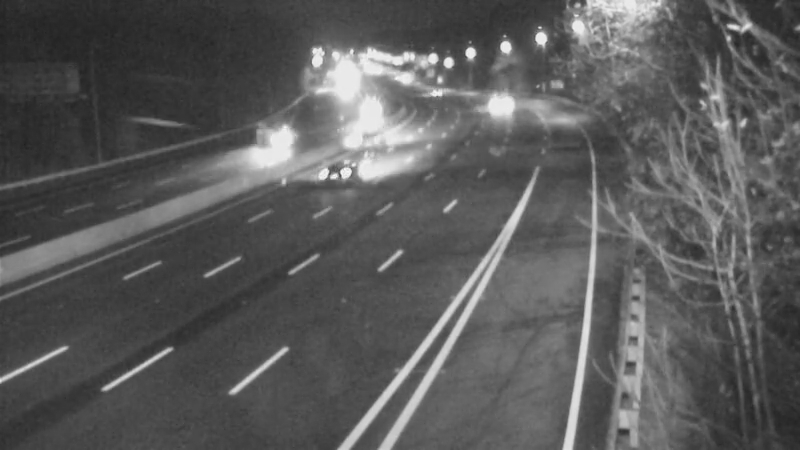vehicle: (299, 134, 379, 214), (231, 110, 311, 190), (472, 80, 522, 130), (415, 67, 465, 117), (337, 113, 387, 163), (341, 94, 391, 144)
